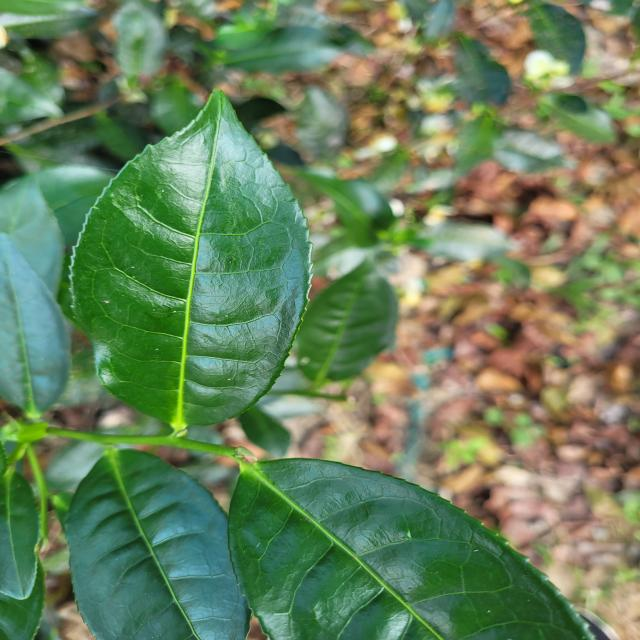Category D(7+ days, Not for Tea): (51, 76, 323, 444)
